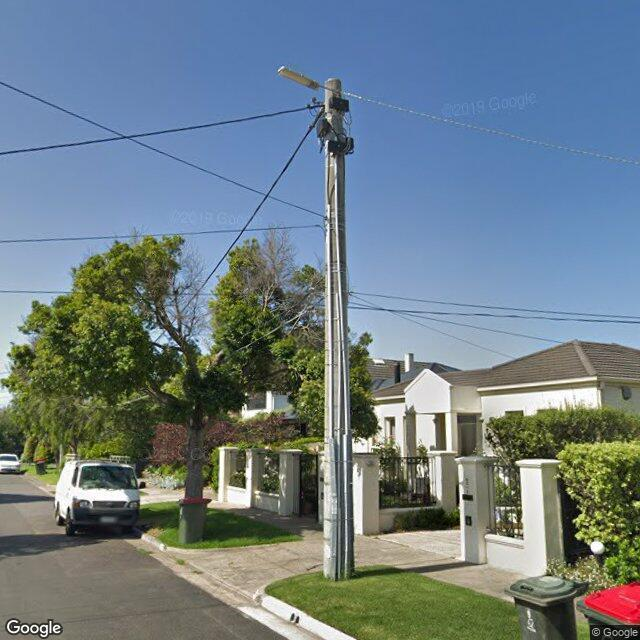concrete-pole: (326, 77, 356, 580)
streetlight: (277, 65, 335, 92)
